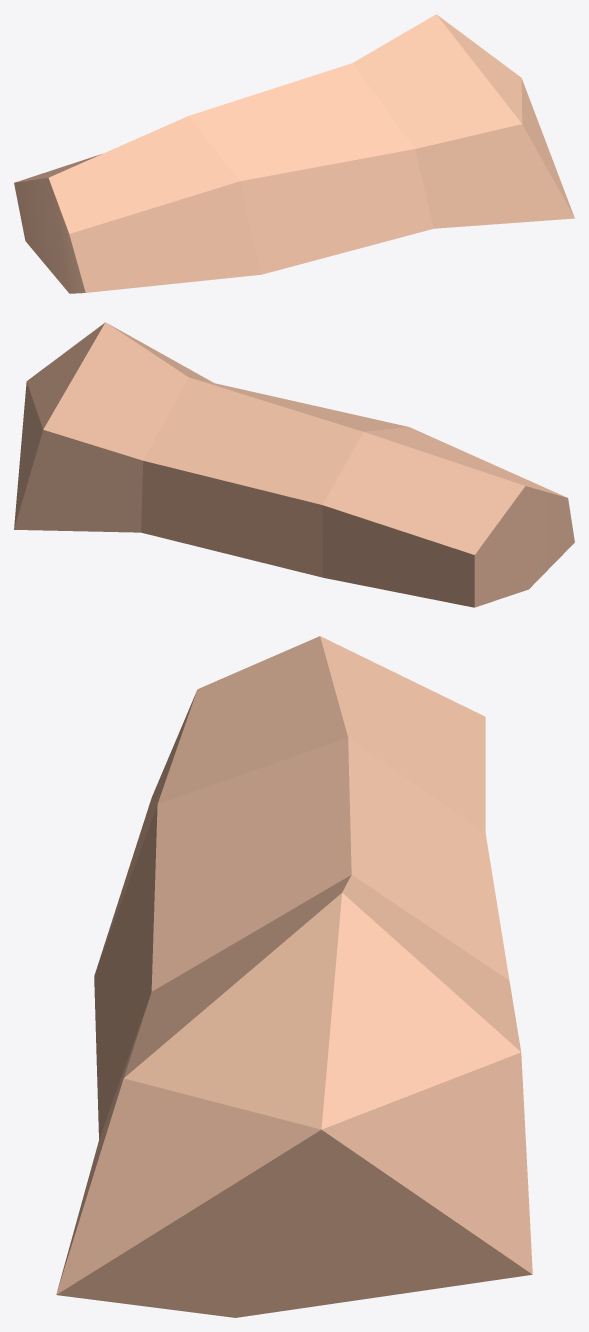
Rendered from Chr_ArmUpperRight_Male_00_Static.fbx.
3 renders of one model, top to bottom at view 1: azimuth 30°, elevation 25°; view 2: azimuth 150°, elevation 25°; view 3: azimuth 270°, elevation 25°, orthographic. The views are drawn at different scales.
Parts seen in each view (by area): view 1: Chr_ArmUpperRight_Male_00_Static; view 2: Chr_ArmUpperRight_Male_00_Static; view 3: Chr_ArmUpperRight_Male_00_Static.
Part boxes in pixels (x1,y1,x2,y2): Chr_ArmUpperRight_Male_00_Static: [14, 14, 574, 293]; Chr_ArmUpperRight_Male_00_Static: [14, 322, 574, 607]; Chr_ArmUpperRight_Male_00_Static: [56, 636, 532, 1317].
Size of the model in its own units: 0.3345 by 0.123 by 0.1429.
